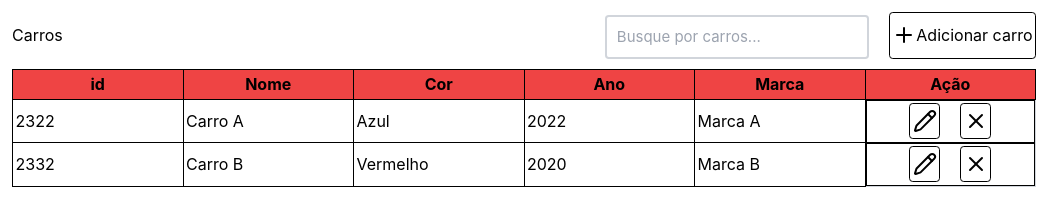
Scenario: CarList › filters cars correctly
Step 1. Type "Carro A" into the field with placeholder "Busque por carros..." → (737, 36), box [605,14,869,58]
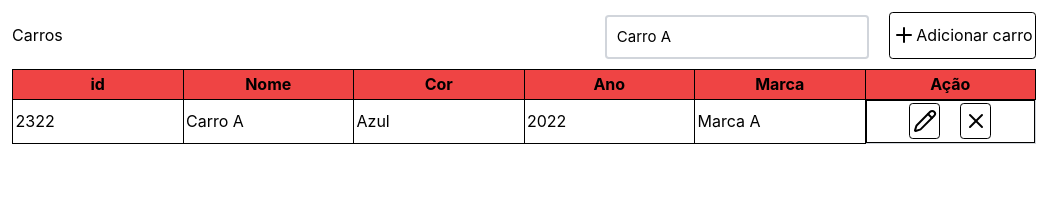
Expected: the text "Carro A" is shown, [183,99,354,143]
Expected: the text "Carro B" is gone
